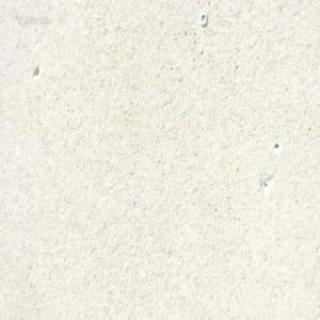Washertrack_idkeyframe: (198, 10, 206, 26)
